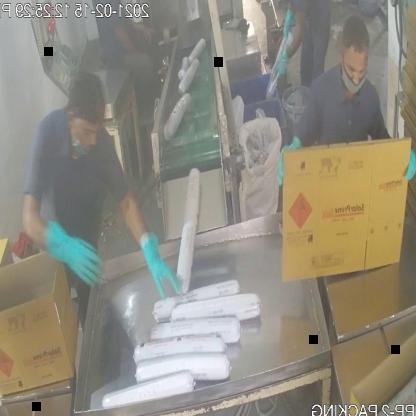glove: (40, 216, 109, 299), (134, 225, 182, 307)
no_glove: (127, 20, 158, 45)
